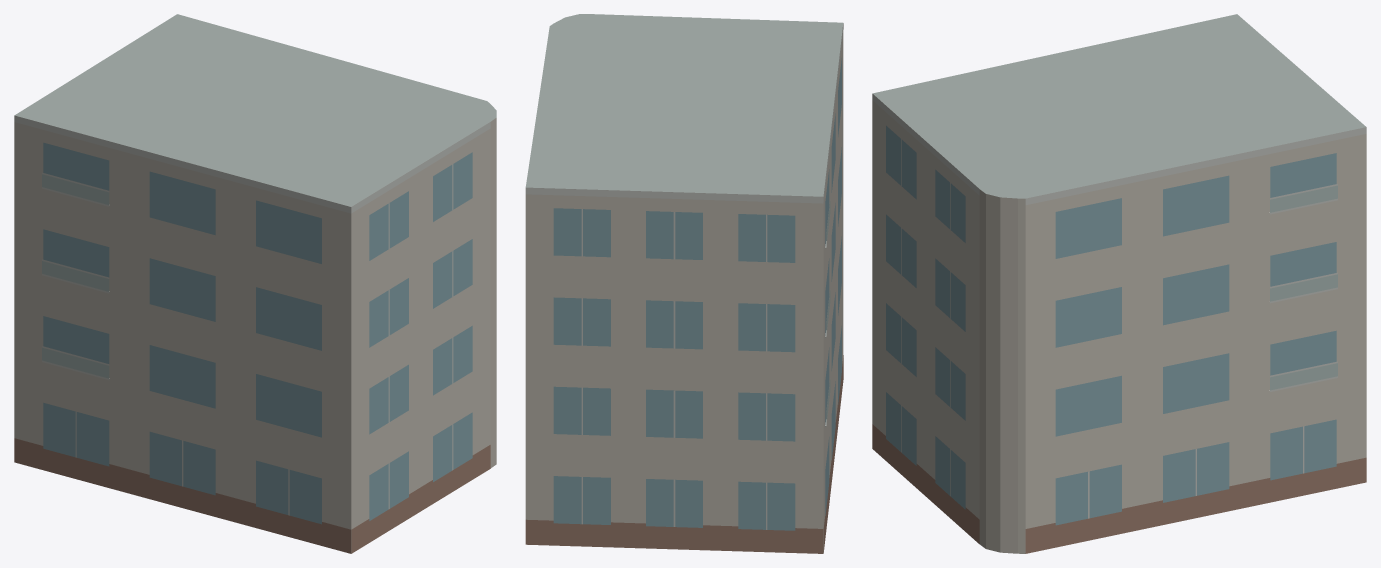
File: survey-upis-32742428.glb
The picture shows the model from 3 angles, left to right: view 1: azimuth 30°, elevation 25°; view 2: azimuth 150°, elevation 25°; view 3: azimuth 270°, elevation 25°; orthographic projection. The views are drawn at different scales.
Parts seen in each view (by area): view 1: survey-upis-32742428.tmp; view 2: survey-upis-32742428.tmp; view 3: survey-upis-32742428.tmp.
Part boxes in pixels (left/top/right/bottom): survey-upis-32742428.tmp: left=14, top=14, right=496, bottom=553; survey-upis-32742428.tmp: left=525, top=14, right=843, bottom=553; survey-upis-32742428.tmp: left=872, top=14, right=1366, bottom=553.
Size of the model in its own units: 14.38 by 12.9 by 16.27.
